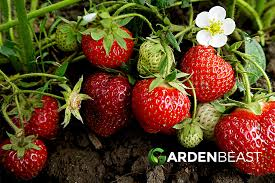Fresa: (213, 94, 275, 179), (130, 74, 194, 139), (79, 70, 135, 138), (181, 42, 239, 105), (82, 14, 135, 69), (11, 88, 62, 140), (1, 132, 50, 183)
